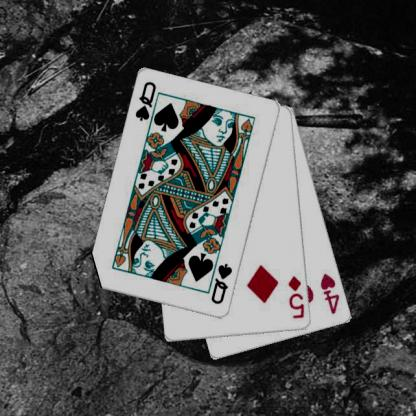4H: (318, 271, 342, 315)
5D: (285, 274, 306, 320)
QS: (132, 79, 158, 123), (209, 261, 234, 306)
